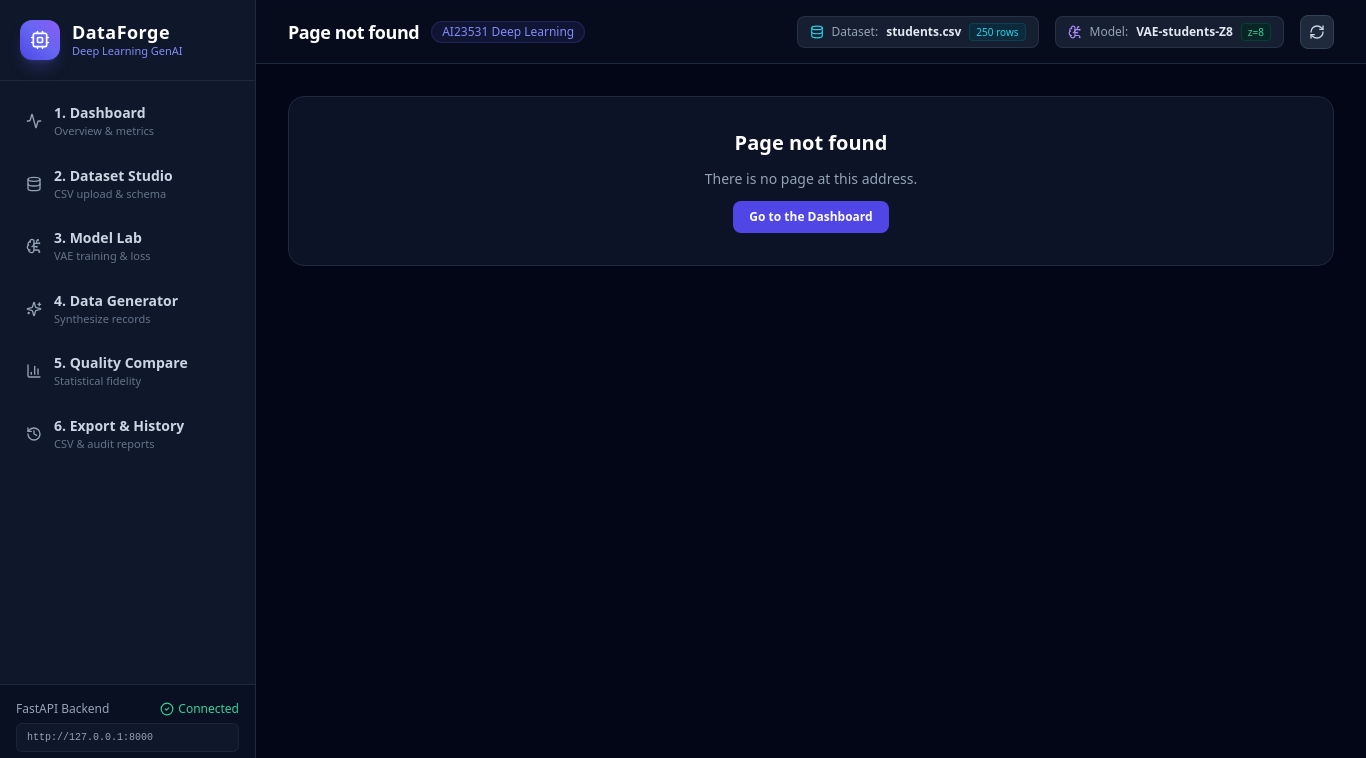
Test: navigation › shows a not-found page for unknown routes and recovers
Expected: the element with test id "not-found" shows "Page not found", [735, 129, 887, 156]
Step 1. Click the button "Go to the Dashboard" → coordinates (811, 217), box [733, 201, 889, 233]
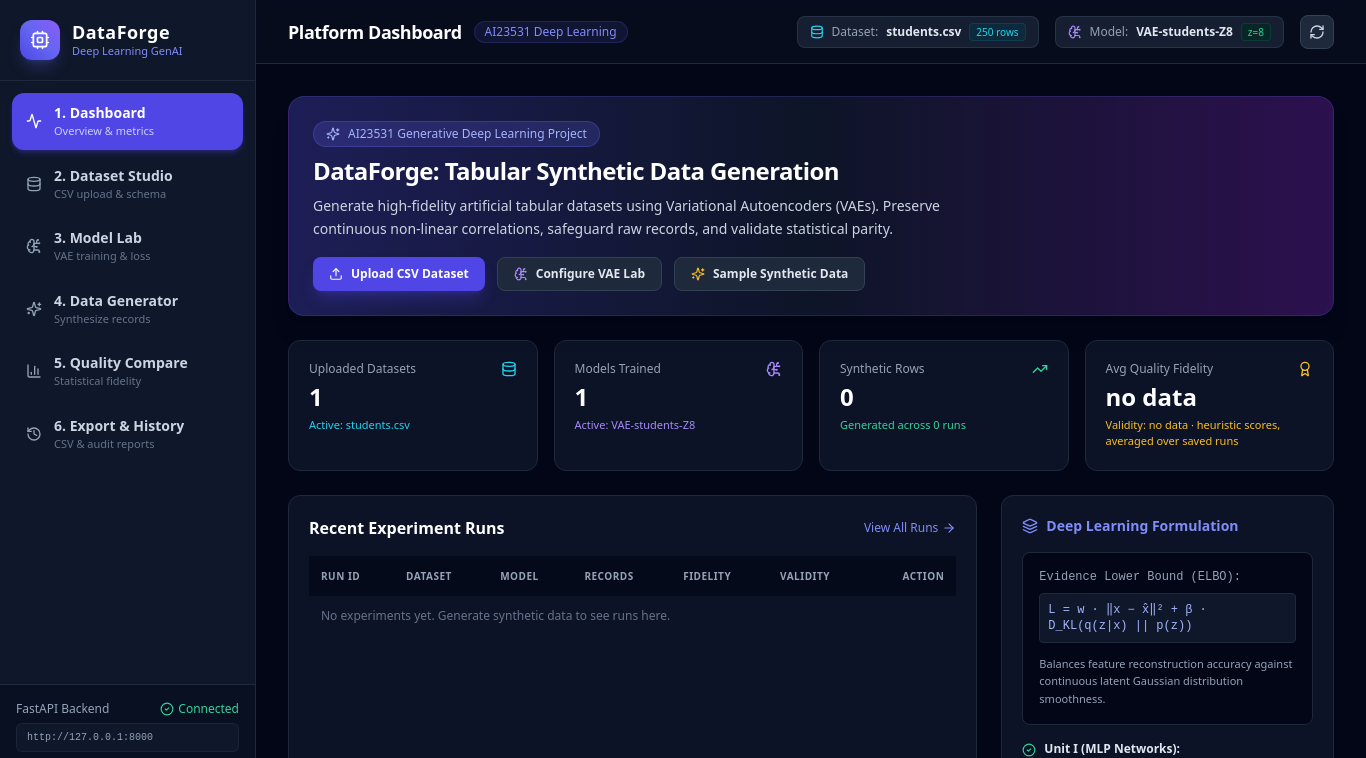
Expected: the element with test id "not-found" is gone
